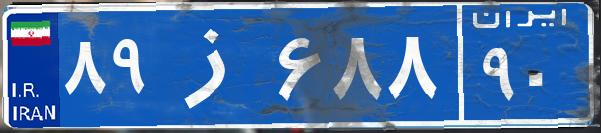0: (525, 38, 570, 115)
6: (273, 28, 330, 110)
8: (385, 28, 445, 110), (330, 28, 385, 110), (57, 26, 110, 107)
9: (475, 38, 525, 113), (110, 28, 158, 105)
ز: (158, 15, 273, 115)
